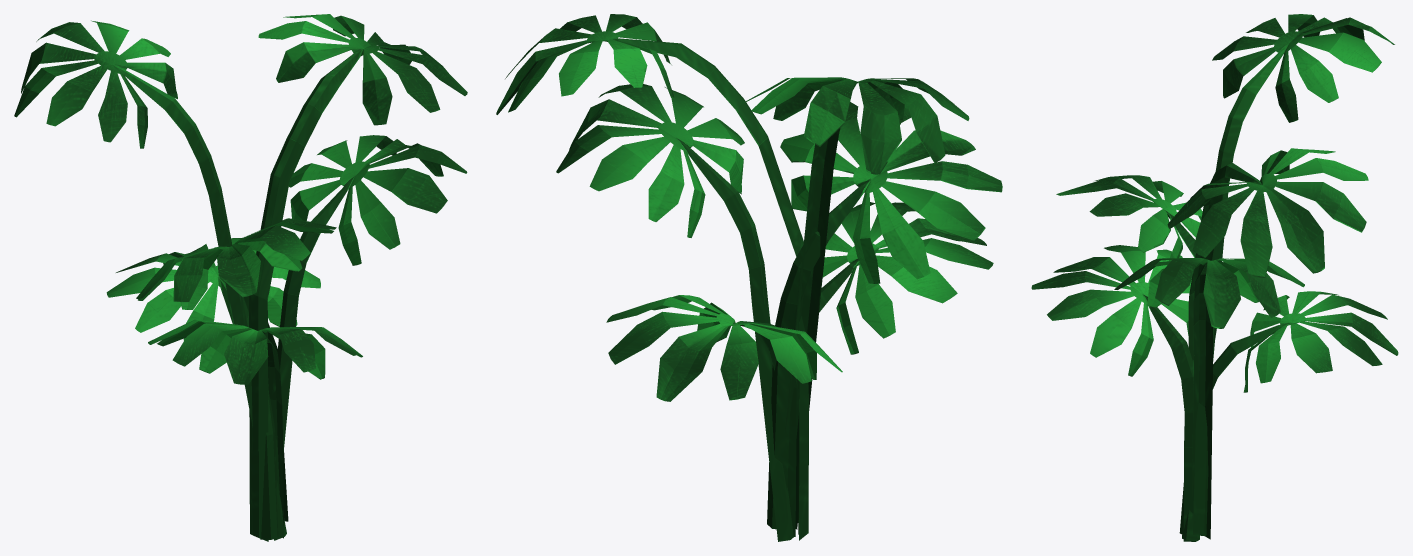
File: Fern1.obj
3 views of the same model, side by side, from view 1: azimuth 30°, elevation 25°; view 2: azimuth 150°, elevation 25°; view 3: azimuth 270°, elevation 25° (orthographic). The views are drawn at different scales.
Parts seen in each view (by area): view 1: Sphere.002; view 2: Sphere.002; view 3: Sphere.002.
Part boxes in pixels (<box>): Sphere.002: <box>14,14,467,541</box>; Sphere.002: <box>496,14,1002,541</box>; Sphere.002: <box>1031,14,1398,541</box>.
Size of the model in its own units: 4.37 by 4.9 by 3.52.
